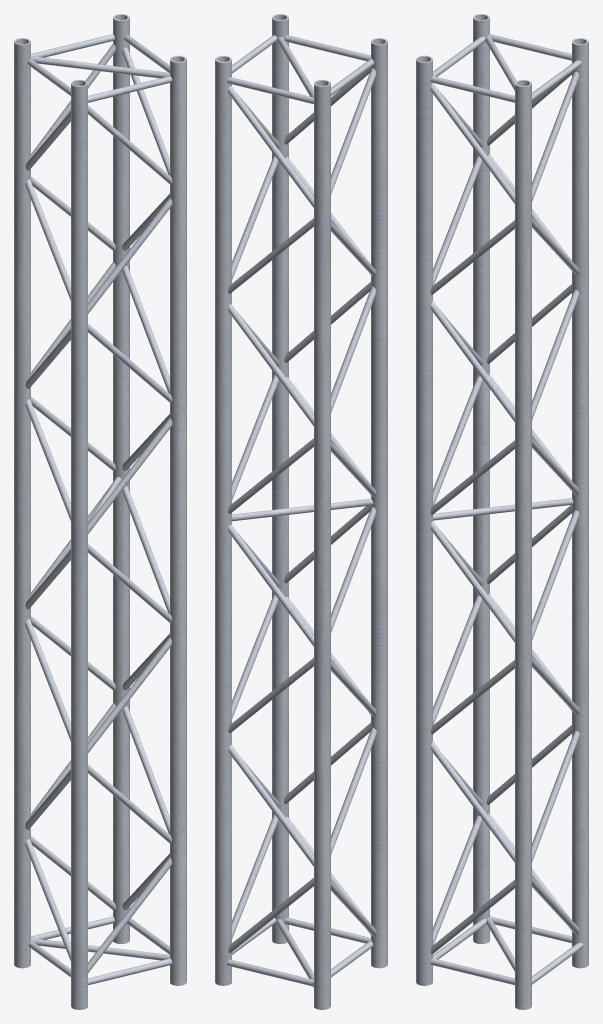
Rendered from Prolyte_H40V_3m-acf20b65.glb.
The picture shows the model from 3 angles, left to right: view 1: azimuth 30°, elevation 25°; view 2: azimuth 150°, elevation 25°; view 3: azimuth 330°, elevation 25°; orthographic projection.
Visible parts, largest first — view 1: Geom3D, Geom3D_Component#4 (×30), Geom3D_Component#2 (×4), Geom3D_Component#10 (×2); view 2: Geom3D, Geom3D_Component#4 (×24), Geom3D_Component#2 (×4), Geom3D_Component#10 (×3); view 3: Geom3D (×5), Geom3D_Component#4 (×24), Geom3D_Component#2 (×4), Geom3D_Component#10 (×2).
Boxes of the visible parts, x1=… form: Geom3D: x1=14, y1=14, x2=186, y2=1009; Geom3D_Component#4 (×30): x1=25, y1=43, x2=172, y2=972; Geom3D_Component#2 (×4): x1=31, y1=34, x2=172, y2=985; Geom3D_Component#10 (×2): x1=31, y1=56, x2=169, y2=960; Geom3D: x1=215, y1=14, x2=387, y2=1009; Geom3D_Component#4 (×24): x1=228, y1=67, x2=376, y2=952; Geom3D_Component#2 (×4): x1=227, y1=35, x2=370, y2=986; Geom3D_Component#10 (×3): x1=231, y1=37, x2=373, y2=979; Geom3D (×5): x1=416, y1=14, x2=588, y2=1009; Geom3D_Component#4 (×24): x1=430, y1=71, x2=579, y2=954; Geom3D_Component#2 (×4): x1=430, y1=34, x2=571, y2=985; Geom3D_Component#10 (×2): x1=433, y1=35, x2=573, y2=520.
Bounding box in the file's own units: 0.3859 × 3 × 0.3858.
1 material, 1 textured.
